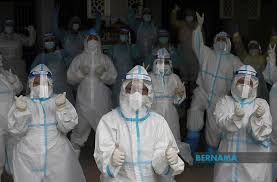Coverall: (92, 65, 179, 182), (4, 62, 81, 182), (211, 64, 274, 182), (189, 25, 247, 142), (67, 28, 117, 154)
Face_Shield: (118, 71, 157, 120), (226, 68, 261, 104), (25, 67, 58, 103), (154, 51, 174, 78)
Gloves: (162, 139, 181, 167), (109, 145, 127, 170), (53, 92, 69, 113), (13, 94, 29, 112), (193, 9, 206, 26), (79, 61, 91, 77), (94, 63, 107, 77), (253, 106, 267, 118), (232, 105, 245, 117)
with_mask: (127, 82, 149, 112), (32, 75, 51, 101), (236, 77, 252, 98), (86, 35, 98, 52), (215, 34, 226, 50)
